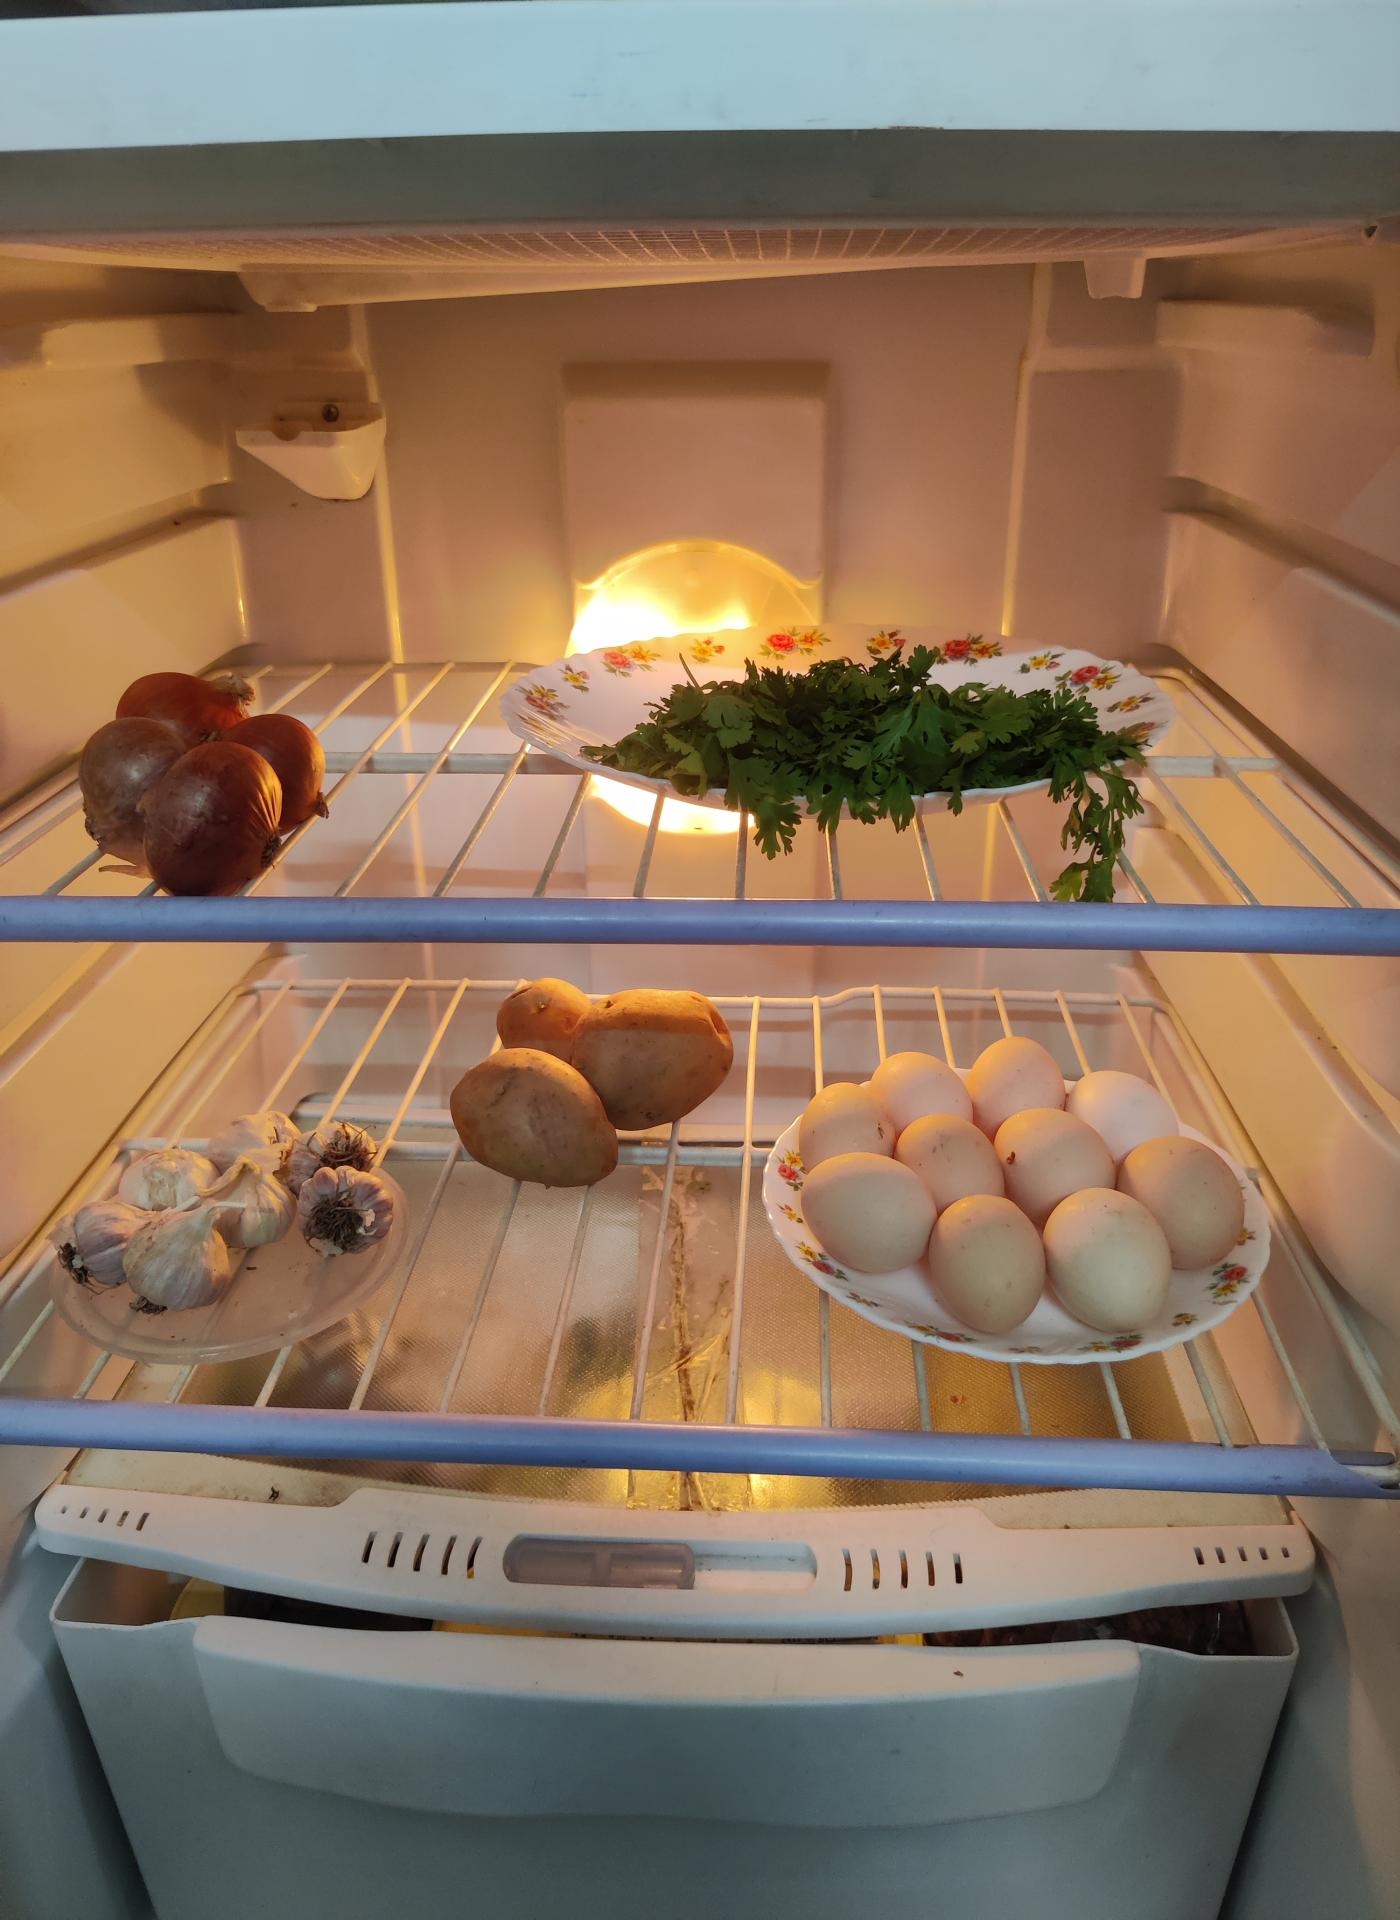coriander: (598, 647, 1153, 812)
egg: (790, 1035, 1242, 1340)
garlic: (76, 1120, 413, 1318)
onion: (73, 674, 325, 897)
potato: (449, 976, 737, 1190)
